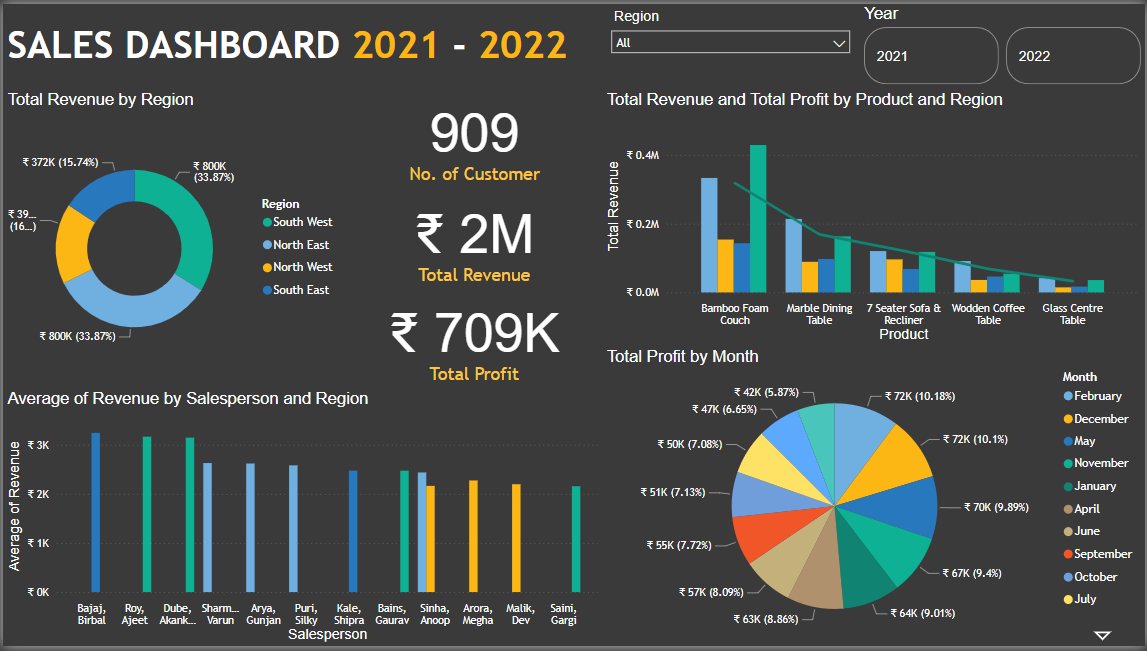

Layout of this report page (visuals, bound fields, positions):
{"tool":"powerbi","page":{"name":"Page 1","canvas":[1280,720],"ordinal":0},"visuals":[{"type":"textbox","box":[0,0,672,96],"z":0},{"type":"donutChart","fields":{"Category":["Raw_Data.Region"],"Y":["Raw_Data.Revenue"]},"box":[0,96,384,336],"z":2},{"type":"pieChart","fields":{"Category":["Raw_Data.Month"],"Y":["Raw_Data.Profit"]},"box":[672,384,608,336],"z":3},{"type":"advancedSlicerVisual","fields":{"Values":["Raw_Data.Year"]},"box":[960,0,320,96],"z":4},{"type":"clusteredColumnChart","fields":{"Category":["Raw_Data.Salesperson"],"Y":["Raw_Data.Revenue"],"Series":["Raw_Data.Region"]},"box":[0,432,672,288],"z":5},{"type":"lineClusteredColumnComboChart","fields":{"Y2":["Raw_Data.Profit"],"Y":["Raw_Data.Revenue"],"Category":["Raw_Data.Product"],"Series":["Raw_Data.Region"]},"box":[672,96,608,288],"z":6},{"type":"card","fields":{"Values":["Raw_Data.Revenue"]},"box":[384,208,288,112],"z":7},{"type":"card","fields":{"Values":["Raw_Data.Profit"]},"box":[384,320,288,112],"z":8},{"type":"card","fields":{"Values":["Raw_Data.Customer"]},"box":[408.6,95.7,240,112.9],"z":9},{"type":"slicer","fields":{"Values":["Raw_Data.Region"]},"box":[672,0,288,98],"z":10}]}

Visuals, with their boxes in screenshot pixels (x1, y1, x2, y2), scaled from the page's 1280x720 canvas onto the 1147x651 screenshot:
textbox: [x1=0, y1=0, x2=602, y2=87]
donutChart - Raw_Data.Region x Raw_Data.Revenue: [x1=0, y1=87, x2=344, y2=391]
pieChart - Raw_Data.Month x Raw_Data.Profit: [x1=602, y1=347, x2=1146, y2=650]
advancedSlicerVisual - Raw_Data.Year: [x1=860, y1=0, x2=1146, y2=87]
clusteredColumnChart - Raw_Data.Salesperson x Raw_Data.Revenue: [x1=0, y1=391, x2=602, y2=650]
lineClusteredColumnComboChart - Raw_Data.Profit x Raw_Data.Revenue: [x1=602, y1=87, x2=1146, y2=347]
card - Raw_Data.Revenue: [x1=344, y1=188, x2=602, y2=289]
card - Raw_Data.Profit: [x1=344, y1=289, x2=602, y2=391]
card - Raw_Data.Customer: [x1=366, y1=87, x2=581, y2=189]
slicer - Raw_Data.Region: [x1=602, y1=0, x2=860, y2=89]
